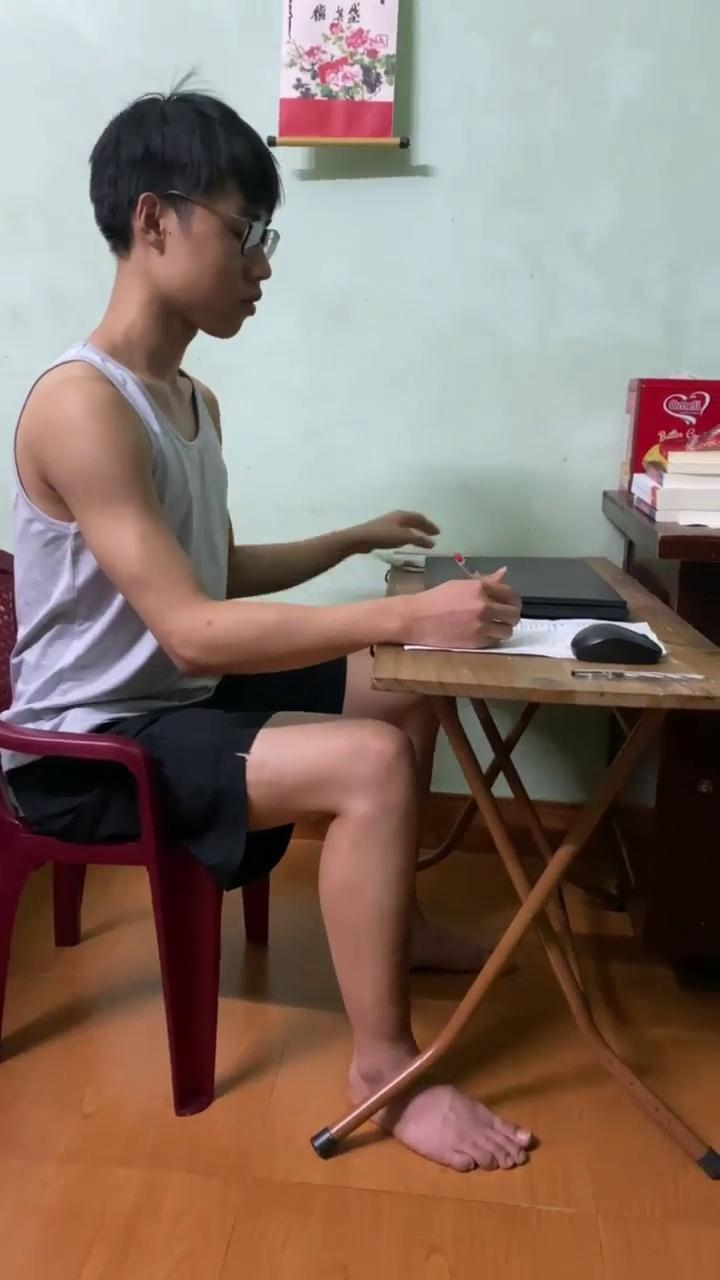GoodPosture: (5, 91, 519, 1100)
